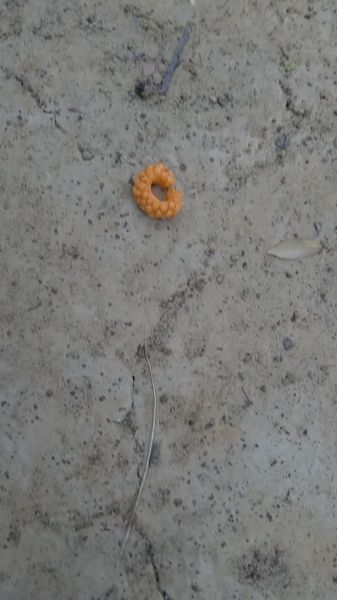eggs: (127, 150, 196, 233)
